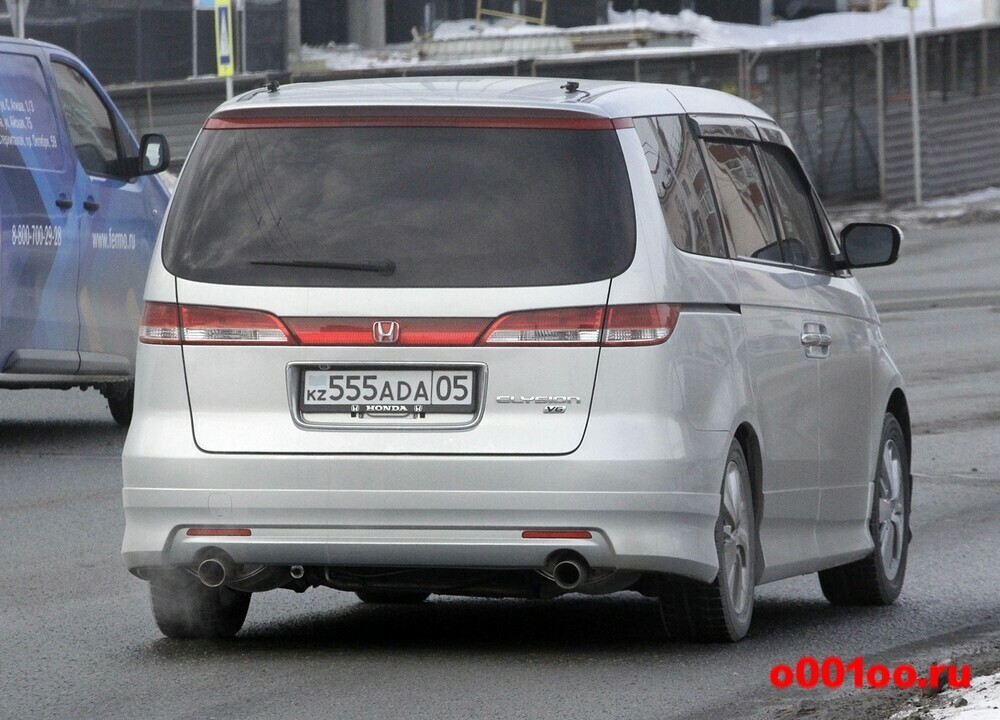license_plate: (302, 369, 472, 406)
